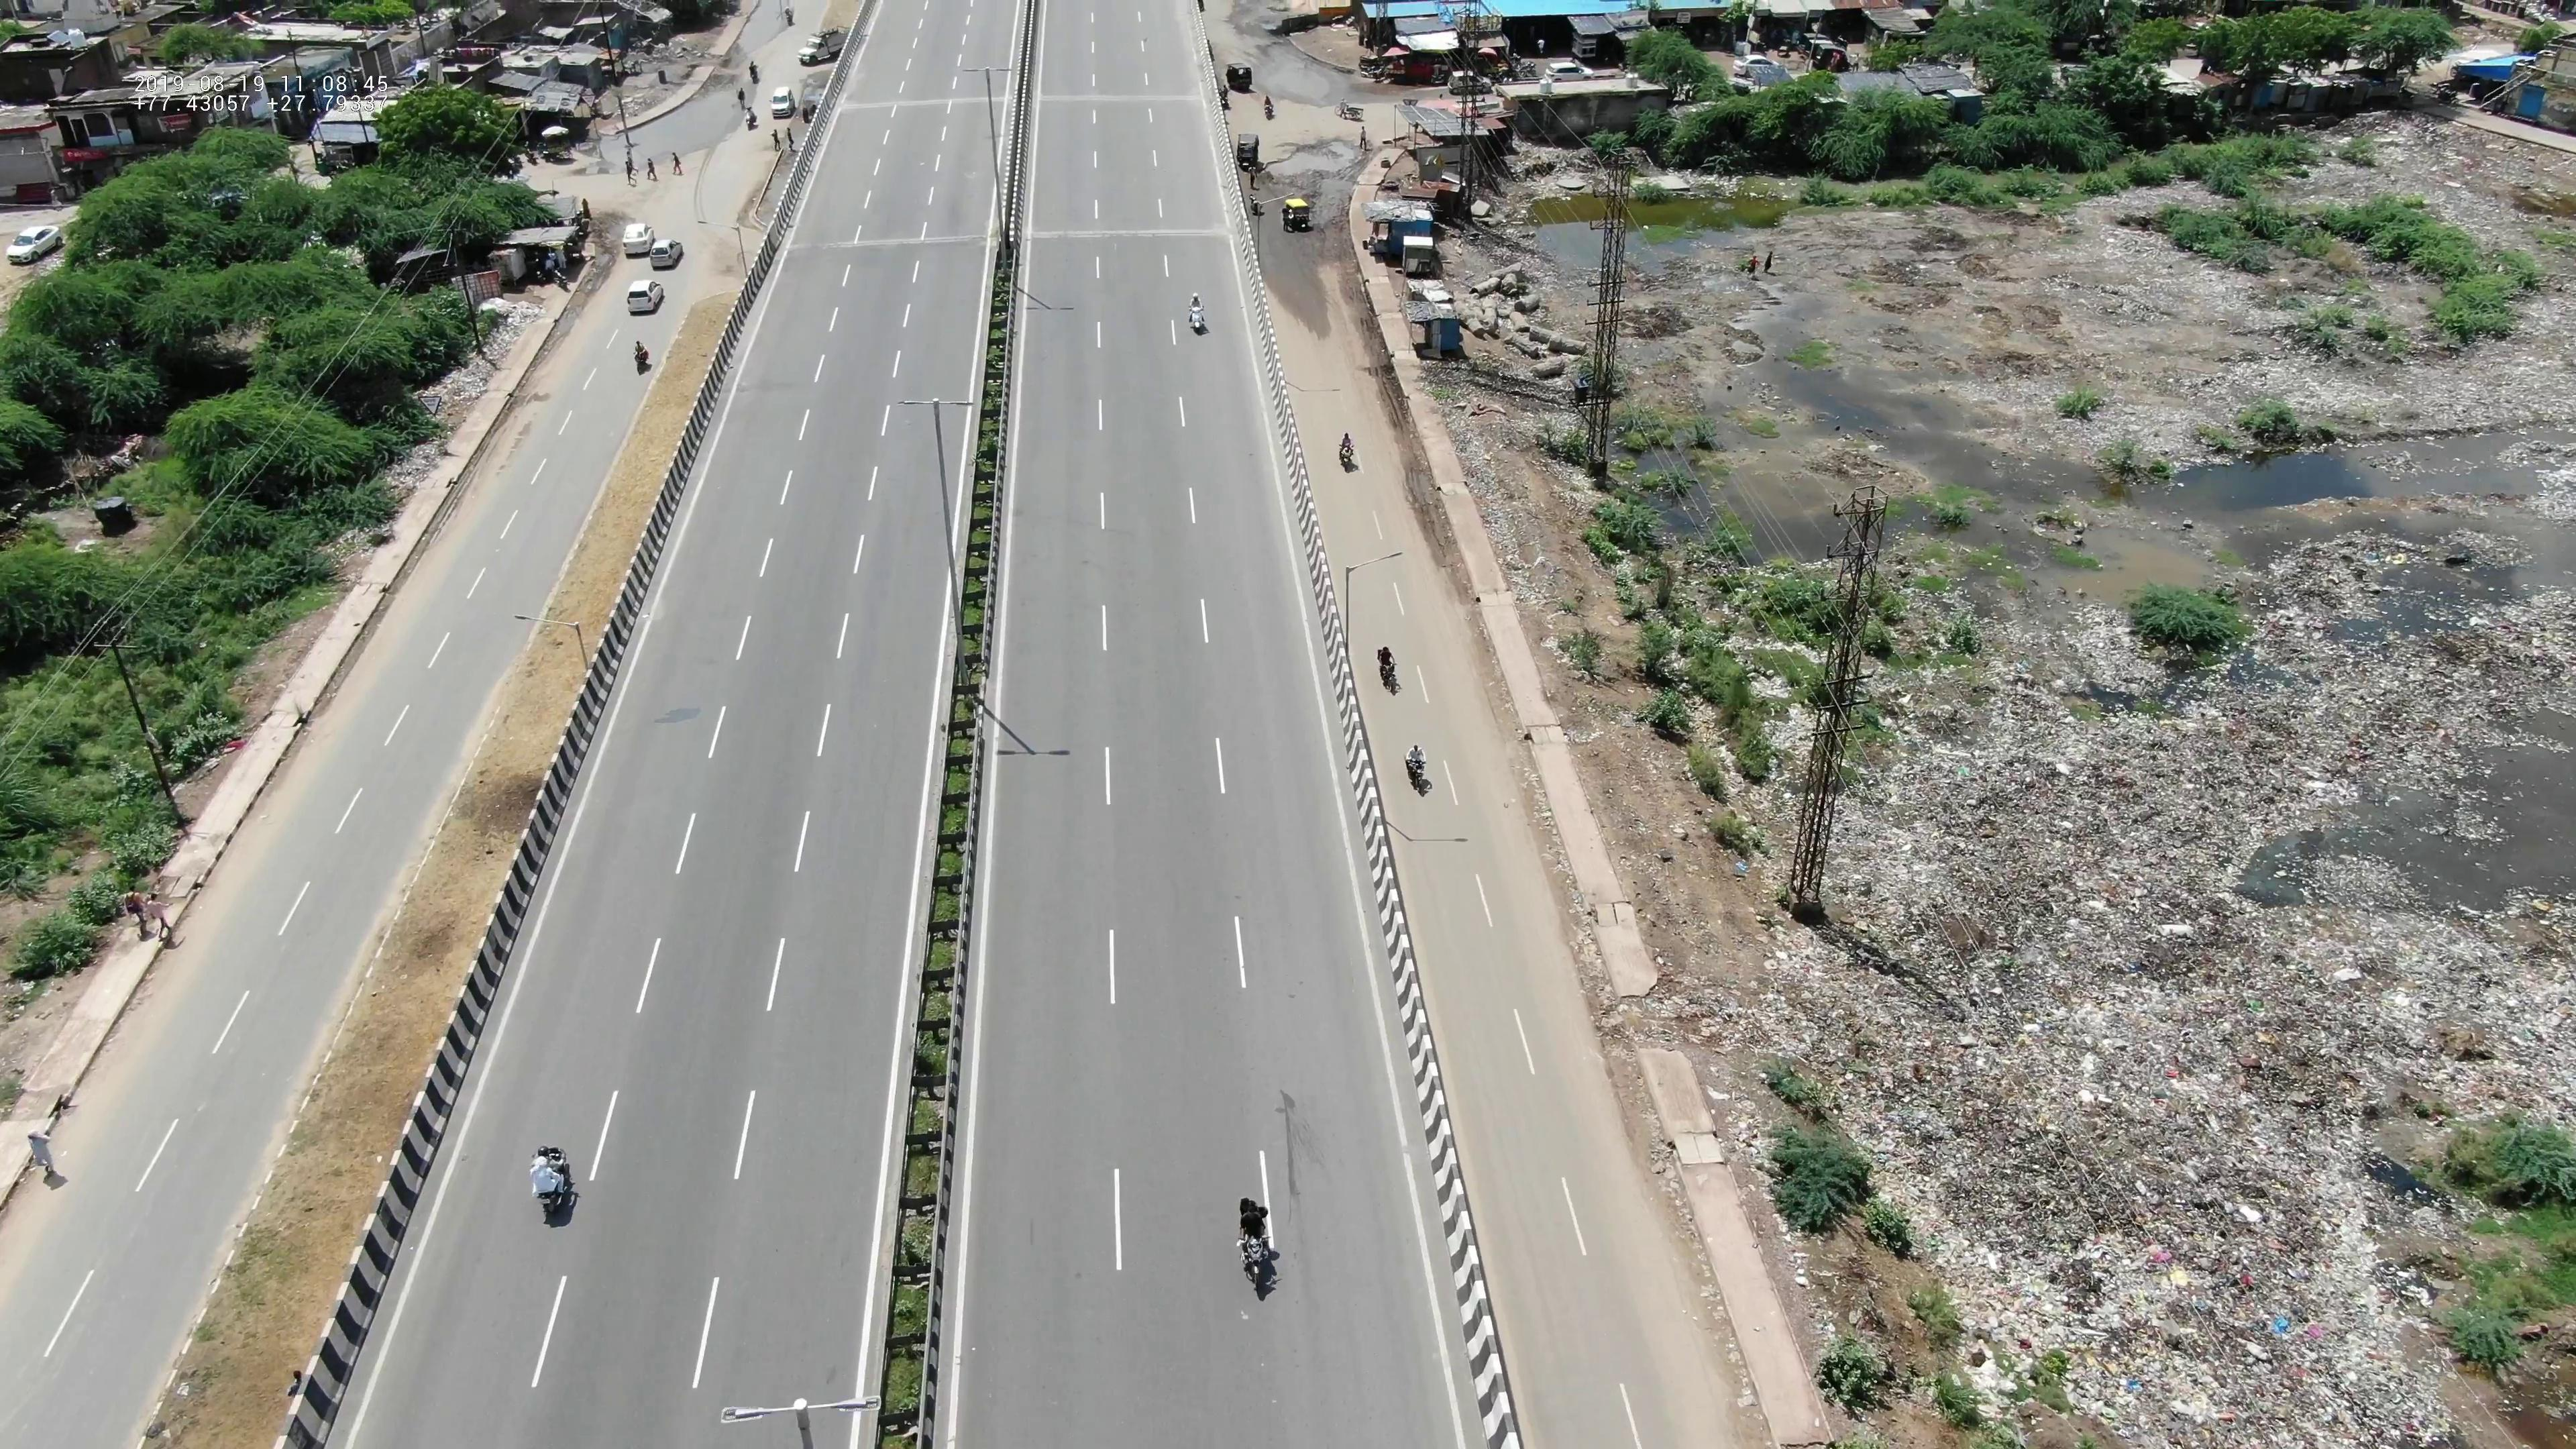Road_side_garbage: (1913, 805, 2258, 1410)
